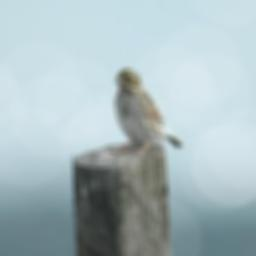Sparrow: (111, 66, 183, 155)
